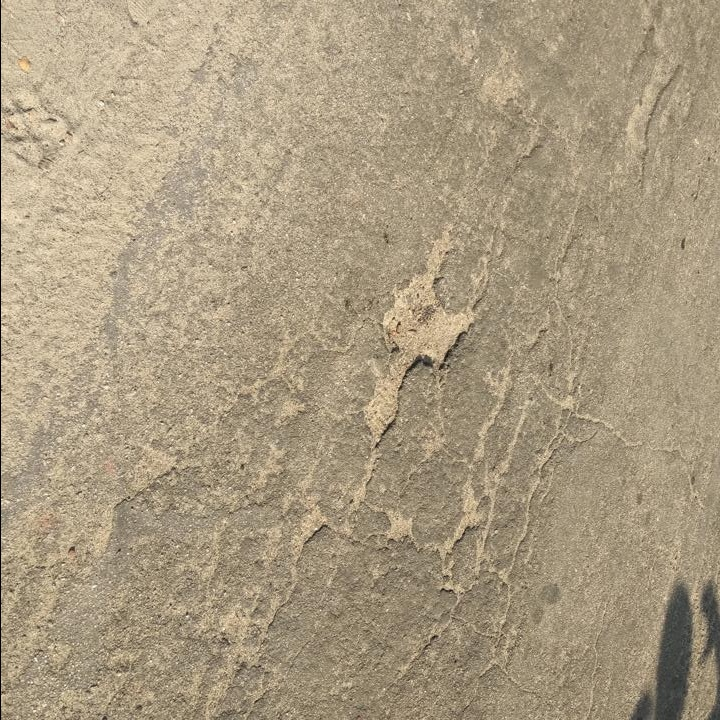pothole: (359, 226, 481, 443)
